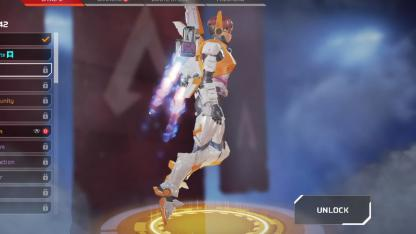Target: (155, 11, 243, 188)
